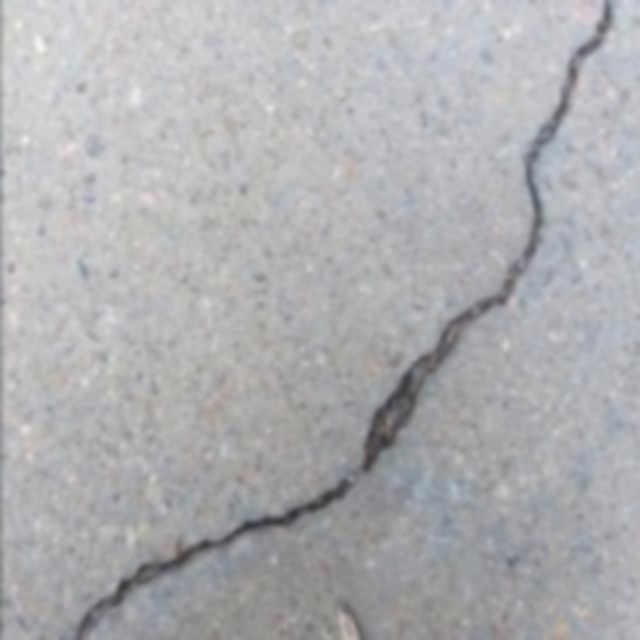SurfaceCrack: (70, 0, 624, 640)
